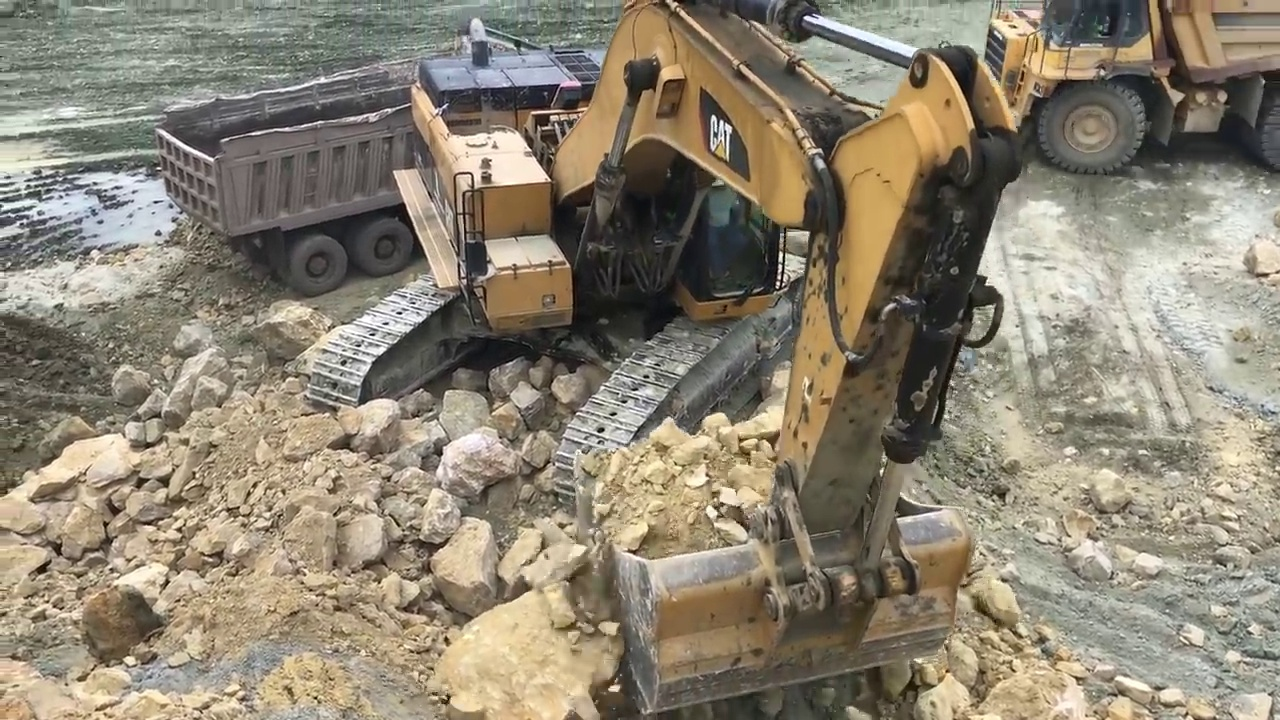excavator: (303, 4, 1030, 717)
truck: (147, 80, 660, 294), (981, 2, 1280, 173)
